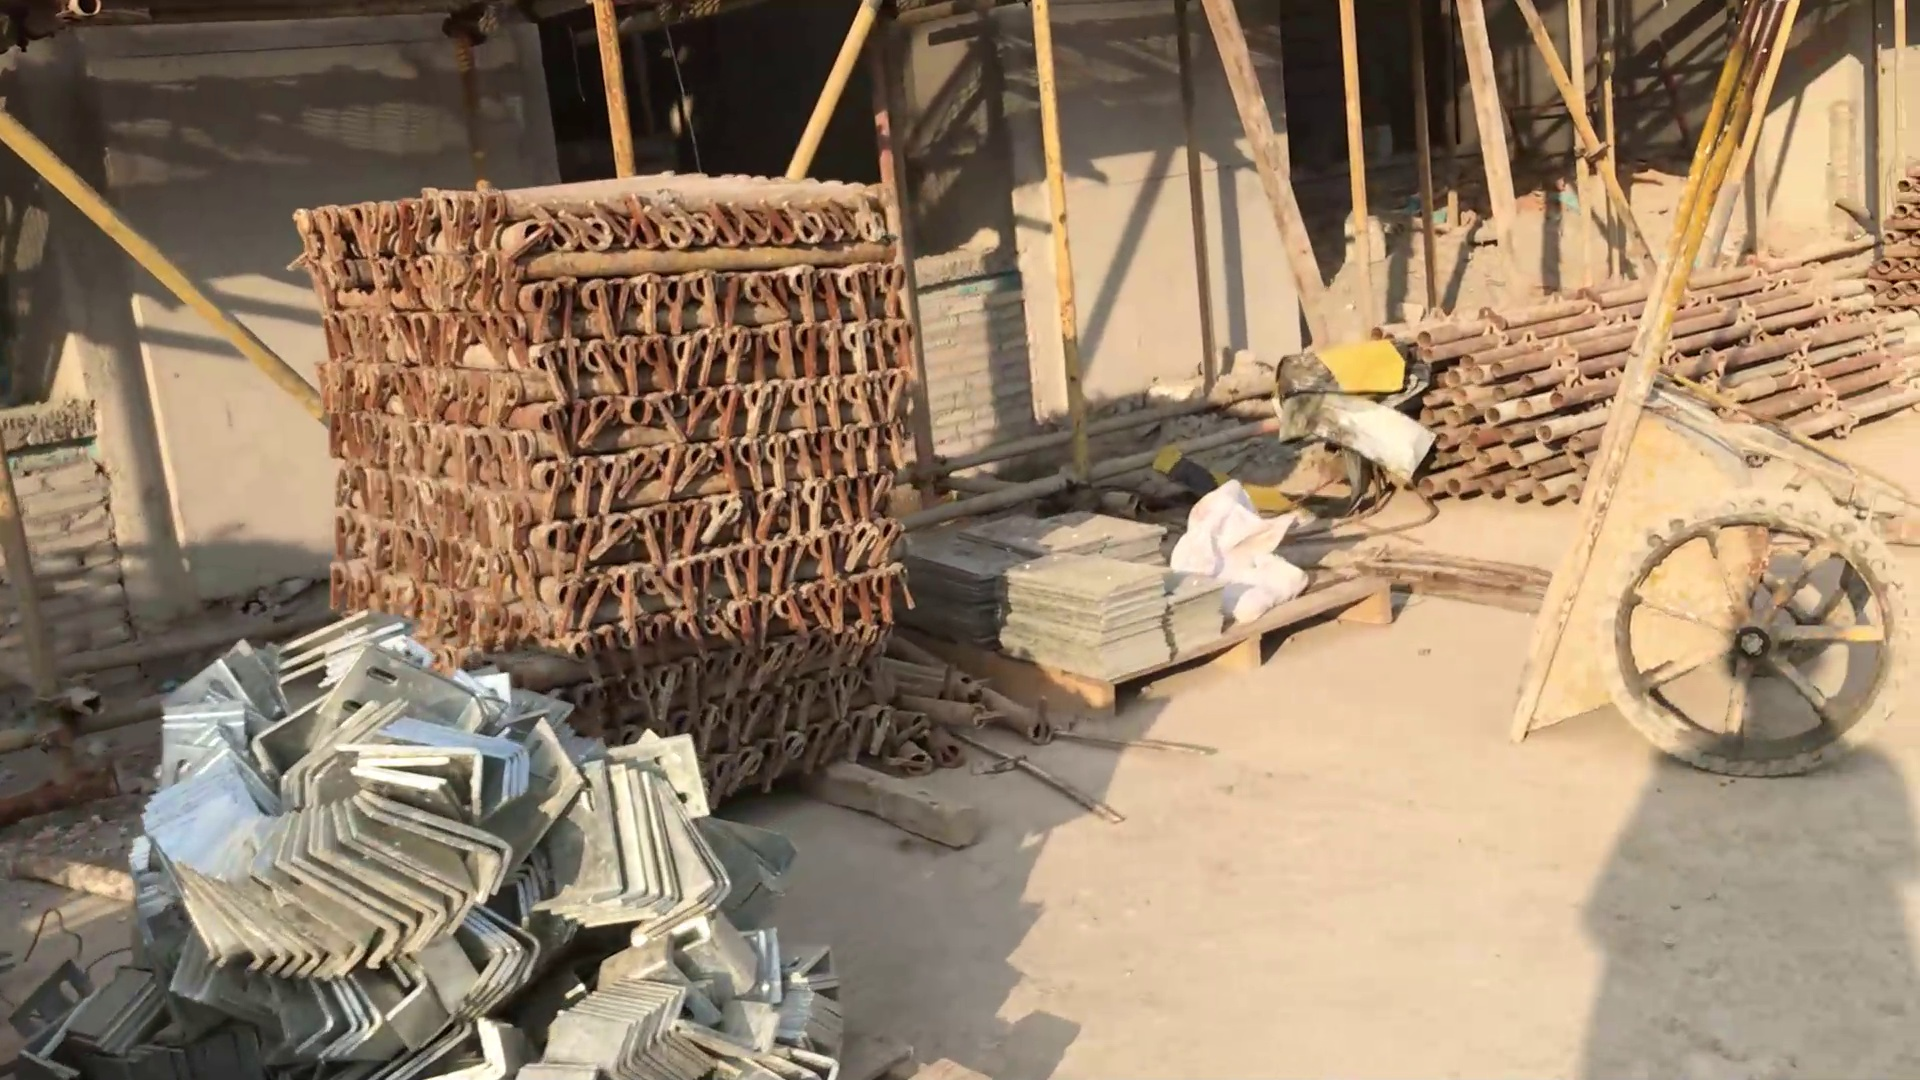handcart: (1505, 3, 1920, 783)
scaffold: (291, 169, 913, 778), (1378, 255, 1920, 506)
